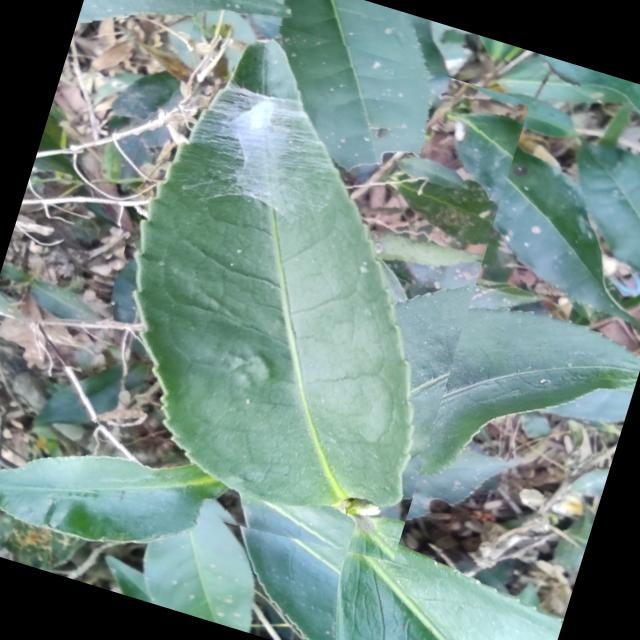Category D(7+ days, Not for Tea): (54, 0, 534, 583)
